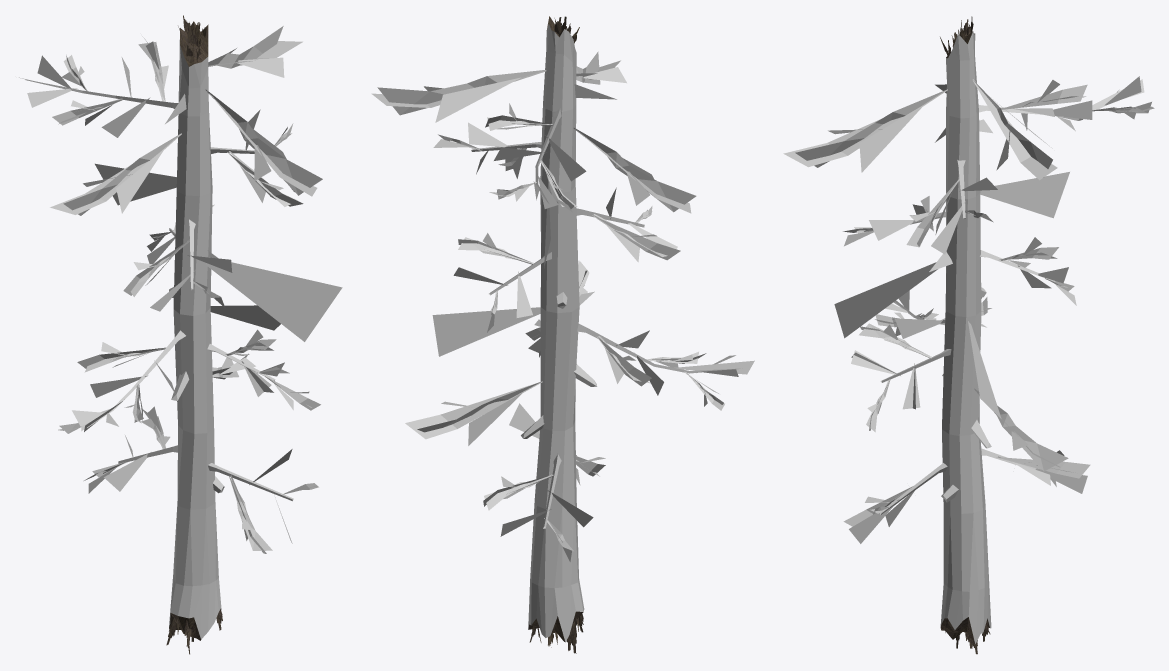
File: SM_PineDead04_lod1.obj
The picture shows the model from 3 angles, left to right: view 1: azimuth 30°, elevation 25°; view 2: azimuth 150°, elevation 25°; view 3: azimuth 270°, elevation 25°; orthographic projection.
Parts seen in each view (by area): view 1: SM_PineDead04_lod1; view 2: SM_PineDead04_lod1; view 3: SM_PineDead04_lod1.
Boxes of the visible parts, x1=… form: SM_PineDead04_lod1: x1=19, y1=15, x2=342, y2=654; SM_PineDead04_lod1: x1=371, y1=16, x2=754, y2=653; SM_PineDead04_lod1: x1=783, y1=16, x2=1154, y2=654.
Bounding box in the file's own units: 89.08 × 182 × 95.91.
